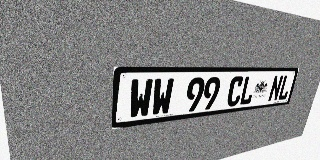9: (184, 77, 206, 112), (201, 77, 222, 110)
C: (226, 76, 245, 107)
L: (239, 76, 257, 105), (277, 75, 293, 101)
N: (267, 75, 284, 102)
W: (128, 78, 153, 119), (151, 78, 174, 116)
